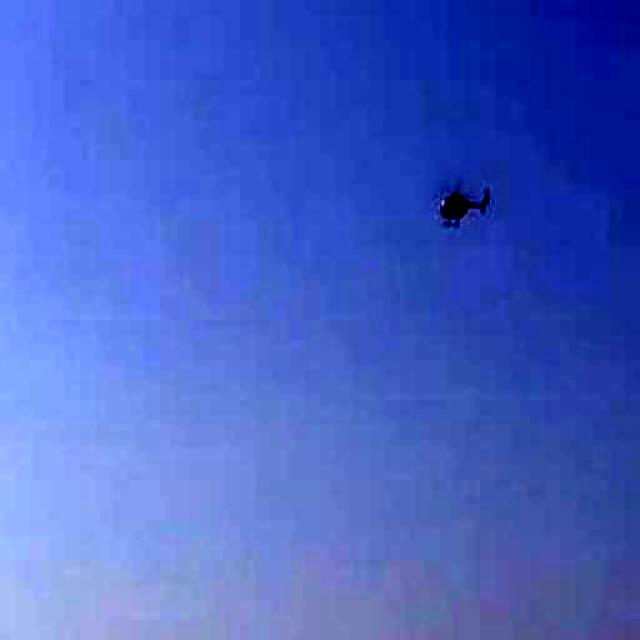drone: (406, 142, 508, 250)
